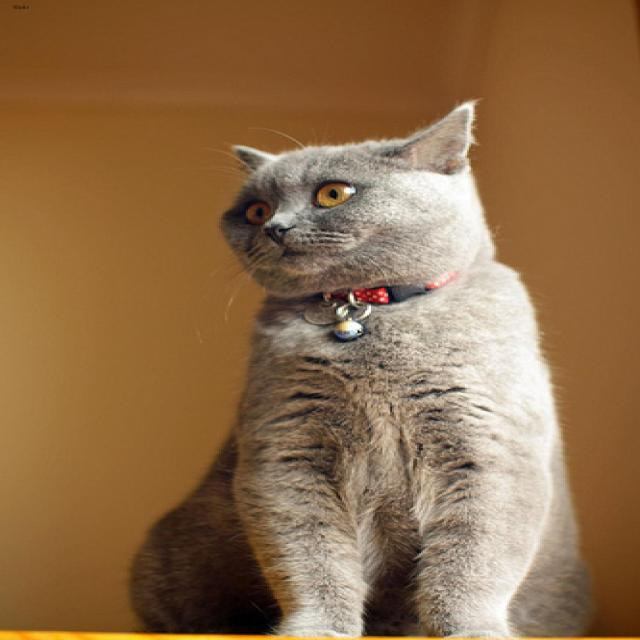British_Shorthair: (210, 100, 506, 306)
